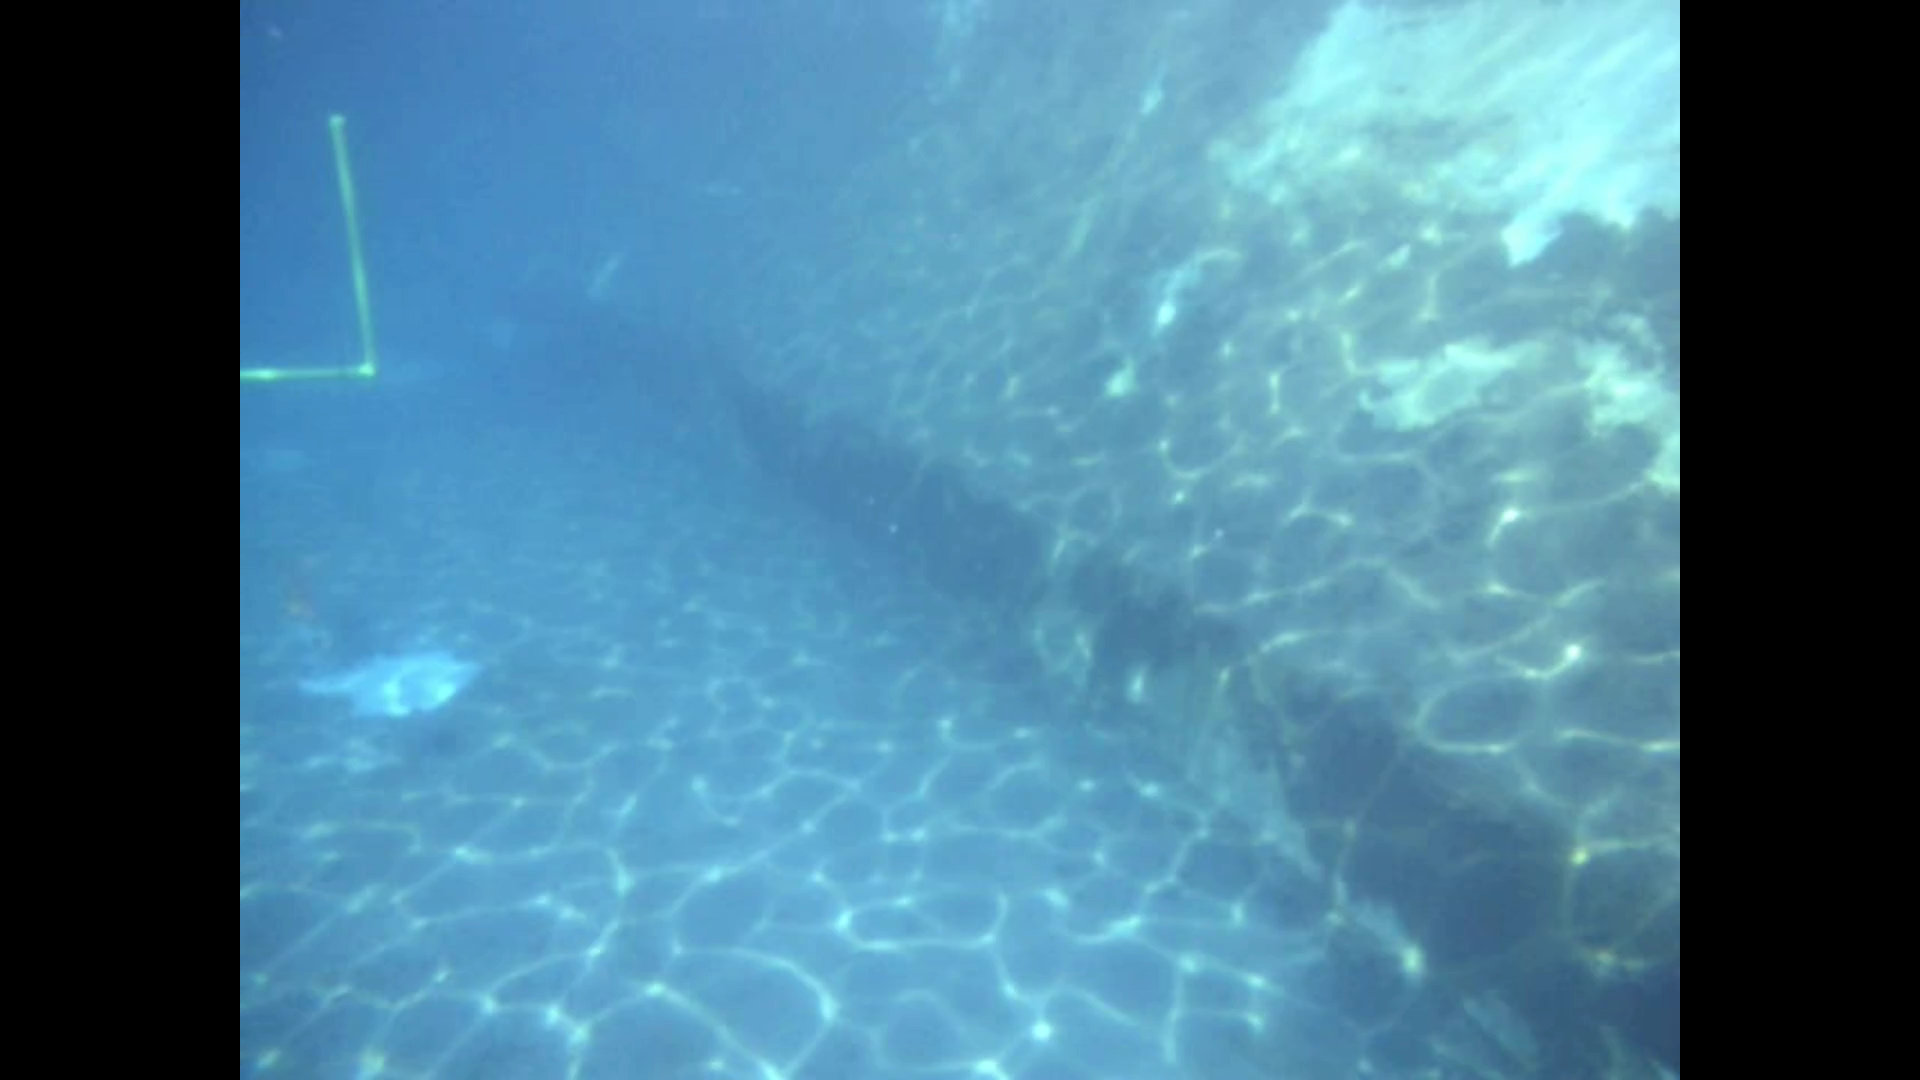gate: (241, 105, 384, 390)
